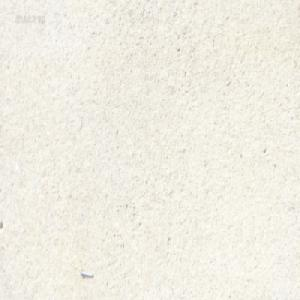Nail: (79, 268, 93, 278)
